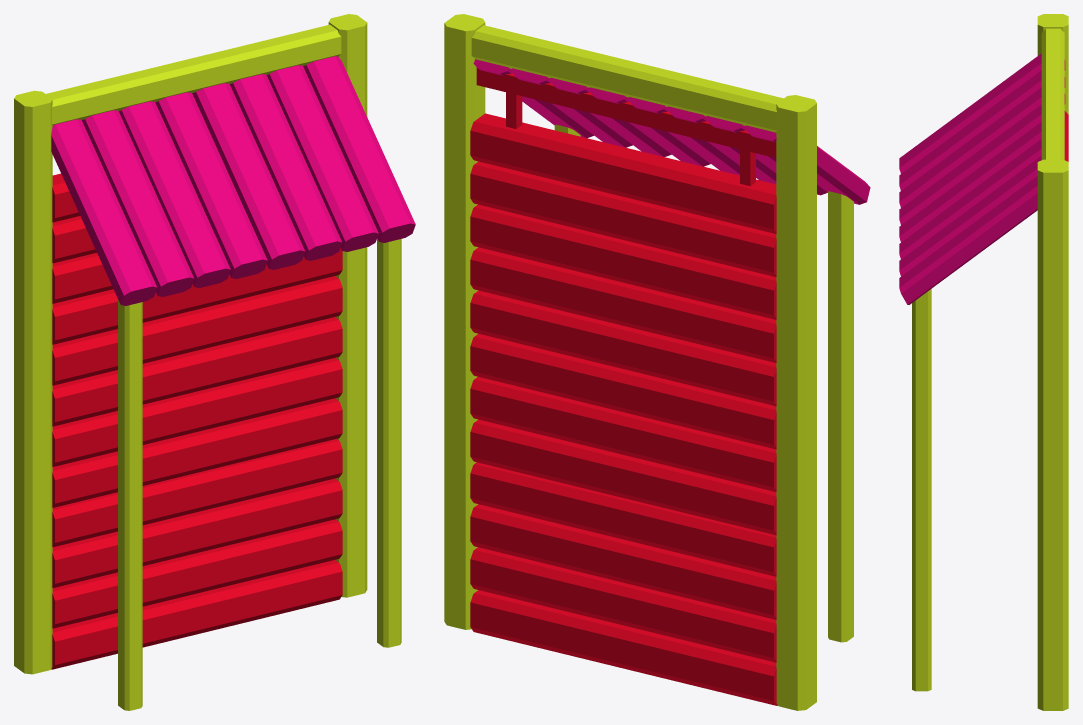
The model's file is WoodWall1.fbx.
3 renders of one model, left to right at view 1: azimuth 30°, elevation 25°; view 2: azimuth 150°, elevation 25°; view 3: azimuth 270°, elevation 25°, orthographic. The views are drawn at different scales.
Visible parts, largest first — view 1: OutdoorWallV5; view 2: OutdoorWallV5; view 3: OutdoorWallV5.
Part boxes in pixels (x1,y1,x2,y2): OutdoorWallV5: (14, 14, 415, 710); OutdoorWallV5: (444, 14, 870, 710); OutdoorWallV5: (899, 14, 1068, 710).
Size of the model in its own units: 201 by 319 by 90.69.
